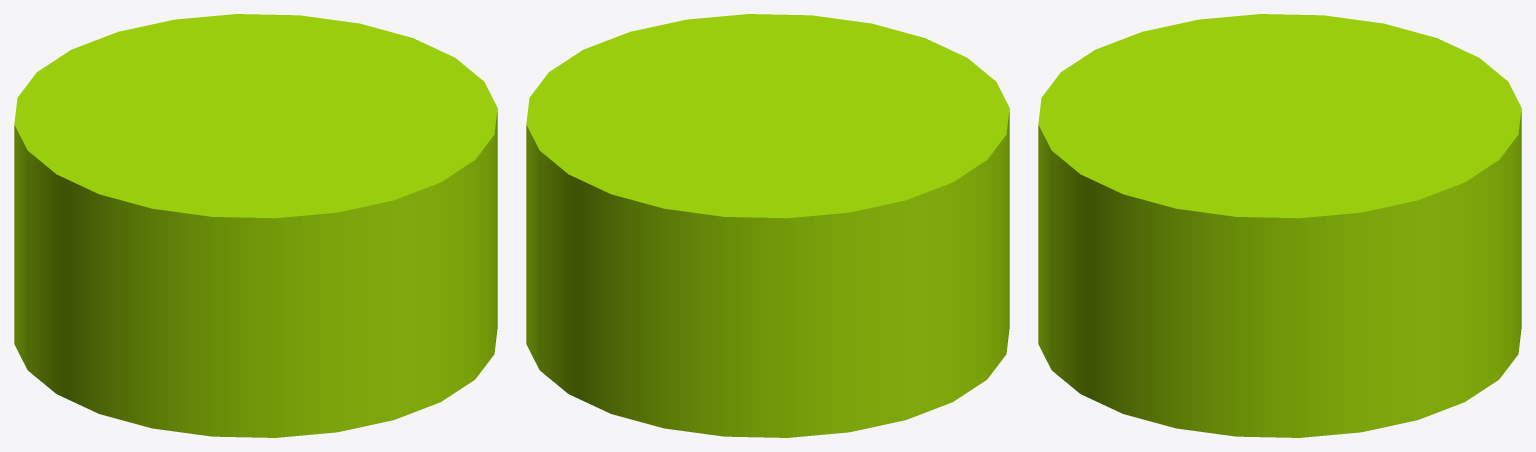
The model's file is Kozakurakan.glb.
The picture shows the model from 3 angles, left to right: view 1: azimuth 30°, elevation 25°; view 2: azimuth 150°, elevation 25°; view 3: azimuth 270°, elevation 25°; orthographic projection.
Parts seen in each view (by area): view 1: Geom3D; view 2: Geom3D; view 3: Geom3D.
Boxes of the visible parts, x1=… form: Geom3D: x1=14, y1=14, x2=497, y2=437; Geom3D: x1=526, y1=14, x2=1009, y2=437; Geom3D: x1=1038, y1=14, x2=1521, y2=437.
Bounding box in the file's own units: 1.99 × 1 × 1.99.
